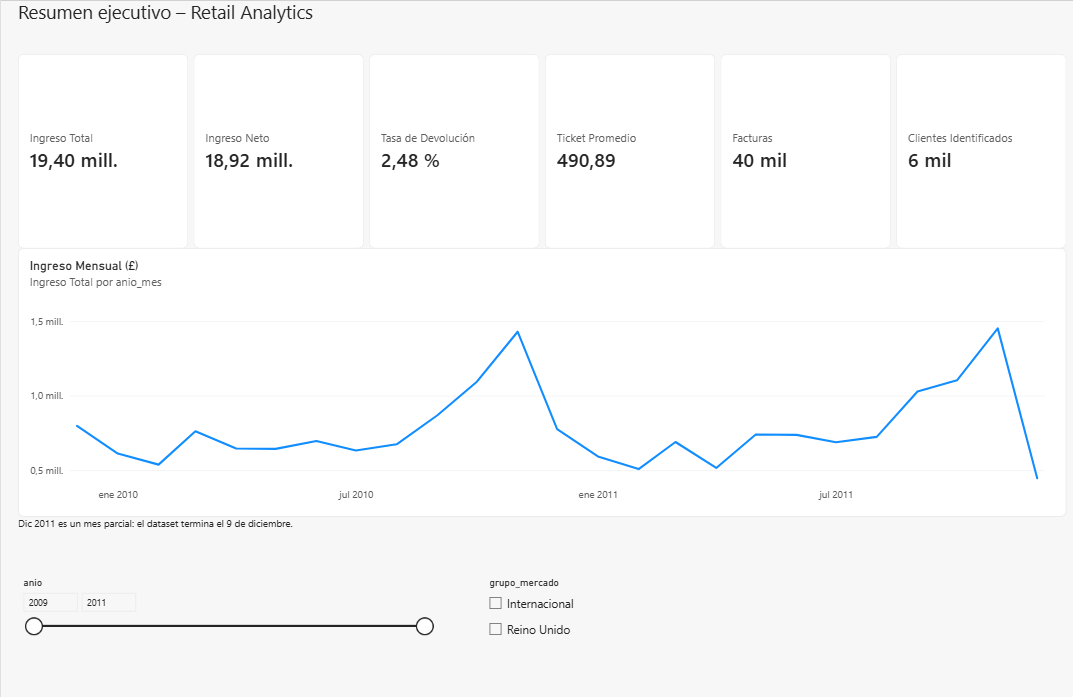

The page's visual inventory and layout, read from the dashboard file:
{"tool":"powerbi","page":{"name":"Resumen Ejecutivo","canvas":[1920,1080],"ordinal":0},"visuals":[{"type":"cardVisual","fields":{"Data":["fact_ventas.Ingreso Total","fact_ventas.Ingreso Neto","fact_ventas.Tasa de Devolución","fact_ventas.Ticket Promedio","fact_ventas.Facturas","fact_ventas.Clientes Identificados"]},"box":[24.8,78.8,1510,280.1],"z":10},{"type":"lineChart","title":"Ingreso Mensual (£)","fields":{"Category":["dim_fecha.anio_mes"],"Y":["fact_ventas.Ingreso Total"]},"box":[24.8,358.9,1510,386.6],"z":11},{"type":"slicer","fields":{"Values":["dim_fecha.anio"]},"box":[24.8,833.1,602.6,230.5],"z":12},{"type":"slicer","fields":{"Values":["dim_pais.grupo_mercado"]},"box":[695.9,833.1,754.3,230.5],"z":13},{"type":"textbox","box":[24.8,745.5,803.9,45.2],"z":14},{"type":"textbox","box":[24.8,0,793.7,78.8],"z":15}]}

Visuals, with their boxes on the page's 1920x1080 design canvas (x1, y1, x2, y2). These are canvas units, not pixel positions in the 1073x697 screenshot, which may show the page scaled, cropped or inside an application window:
cardVisual - fact_ventas.Ingreso Total x fact_ventas.Ingreso Neto: 25 79 1535 359
"Ingreso Mensual (£)" lineChart: 25 359 1535 746
slicer - dim_fecha.anio: 25 833 627 1064
slicer - dim_pais.grupo_mercado: 696 833 1450 1064
textbox: 25 746 829 791
textbox: 25 0 818 79
